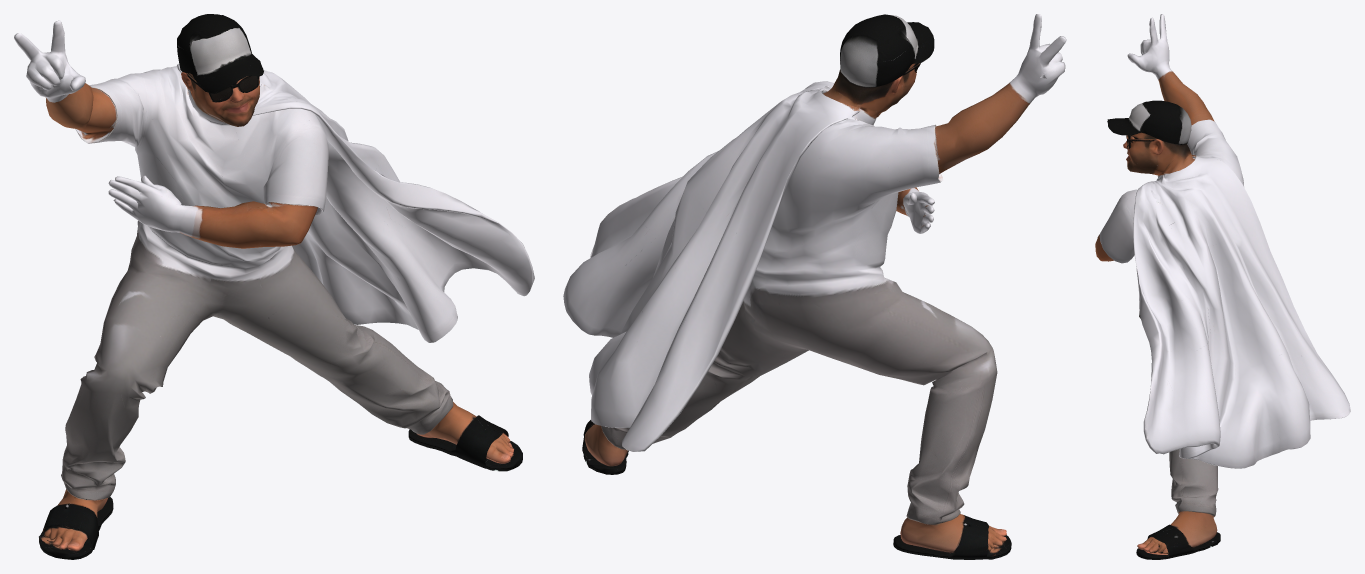
Rendered from blogs_avatar.glb.
3 views of the same model, side by side, from view 1: azimuth 30°, elevation 25°; view 2: azimuth 150°, elevation 25°; view 3: azimuth 270°, elevation 25° (orthographic). The views are drawn at different scales.
Size of the model in its own units: 0.9229 by 0.9551 by 0.5723.
Materials: 1 (1 with a texture image).
